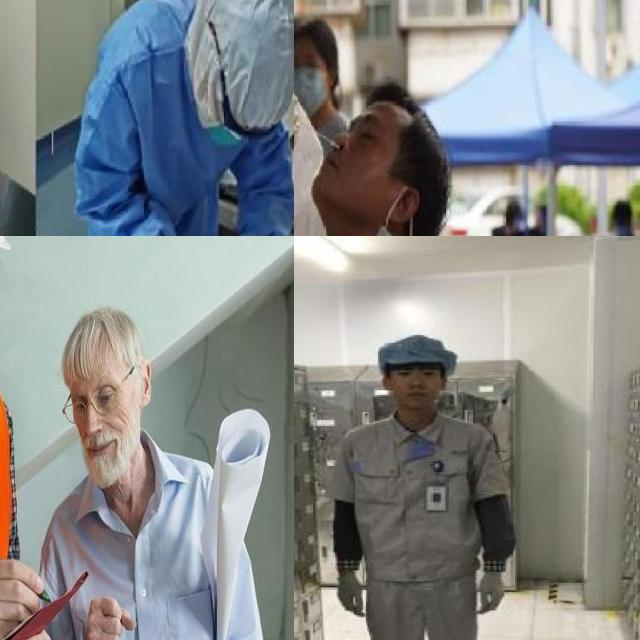face_mask: (294, 45, 332, 114)
face_nomask: (305, 104, 393, 212), (67, 384, 125, 474), (381, 362, 443, 408)
glasses: (60, 385, 125, 427)
hand_glove: (333, 570, 368, 616), (475, 572, 503, 614)
hand_noglove: (0, 559, 45, 640), (82, 595, 138, 640)
head_nohelmet: (377, 70, 456, 181), (55, 306, 140, 378), (371, 318, 458, 364), (294, 10, 332, 54)
person: (33, 306, 268, 640), (313, 310, 525, 640), (22, 0, 294, 236), (297, 71, 500, 236)
